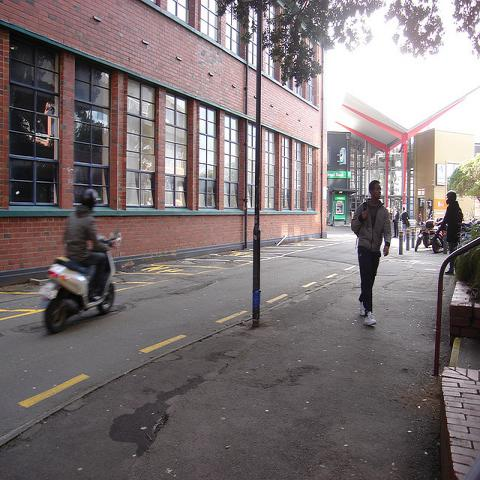motorcycle: (40, 233, 122, 332), (415, 221, 438, 252), (432, 230, 443, 253)
